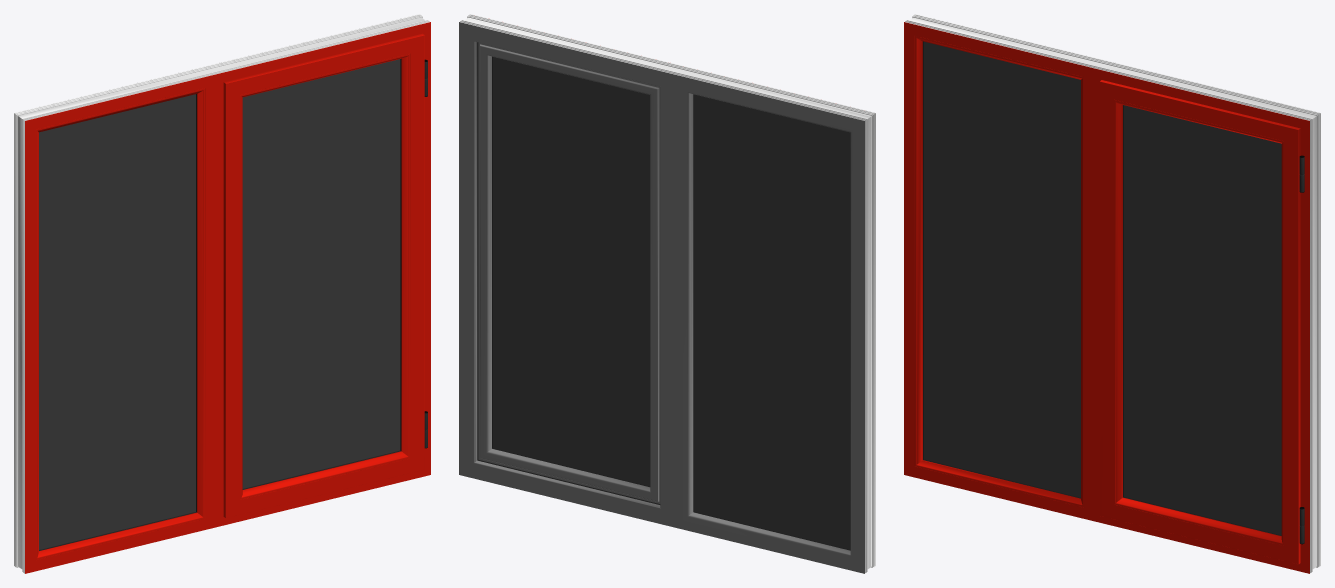
The model's file is 8000_1_door.fbx.
3 renders of one model, left to right at view 1: azimuth 30°, elevation 25°; view 2: azimuth 150°, elevation 25°; view 3: azimuth 330°, elevation 25°, orthographic.
Visible parts, largest first — view 1: SM_extra_8000_009, SM_Glass_L_005, SM_Window_Frame__1_door_8000_001, SM_Door_Frame_8000_L_005, SM_Door_Frame_8000_L_006, SM_extra_8000_004; view 2: SM_extra_8000_008, SM_Glass_L_004, SM_Window_Frame__1_door_8000_001, SM_Door_Frame_8000_L_005, SM_Window_Frame__1_door_8000_002, SM_extra_8000_004, SM_Door_Frame_8000_L_006; view 3: SM_extra_8000_009, SM_Glass_L_005, SM_Window_Frame__1_door_8000_001, SM_Door_Frame_8000_L_005, SM_extra_8000_004, SM_Door_Frame_8000_L_006.
Part boxes in pixels (bbox=[...]): SM_extra_8000_009: bbox=[39, 94, 195, 549]; SM_Glass_L_005: bbox=[242, 59, 400, 488]; SM_Window_Frame__1_door_8000_001: bbox=[14, 14, 430, 573]; SM_Door_Frame_8000_L_005: bbox=[223, 33, 424, 517]; SM_Door_Frame_8000_L_006: bbox=[242, 59, 401, 489]; SM_extra_8000_004: bbox=[39, 94, 196, 550]; SM_extra_8000_008: bbox=[694, 94, 850, 549]; SM_Glass_L_004: bbox=[493, 57, 650, 486]; SM_Window_Frame__1_door_8000_001: bbox=[459, 14, 875, 573]; SM_Door_Frame_8000_L_005: bbox=[478, 42, 660, 503]; SM_Window_Frame__1_door_8000_002: bbox=[477, 42, 660, 504]; SM_extra_8000_004: bbox=[693, 94, 850, 550]; SM_Door_Frame_8000_L_006: bbox=[492, 56, 650, 487]; SM_extra_8000_009: bbox=[924, 41, 1080, 497]; SM_Glass_L_005: bbox=[1124, 105, 1281, 534]; SM_Window_Frame__1_door_8000_001: bbox=[904, 14, 1320, 573]; SM_Door_Frame_8000_L_005: bbox=[1100, 80, 1300, 564]; SM_extra_8000_004: bbox=[923, 41, 1080, 498]; SM_Door_Frame_8000_L_006: bbox=[1123, 105, 1281, 535].
Bounding box in the file's own units: 150 × 160 × 8.65.
